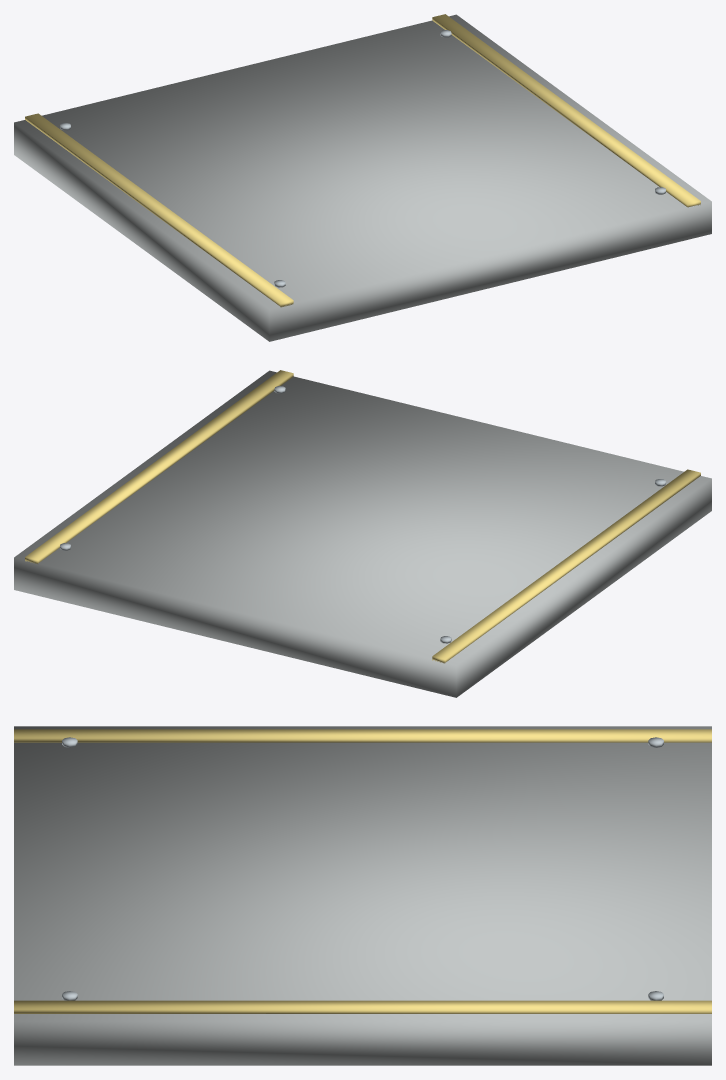
File: foundation_enhanced.glb
3 renders of one model, top to bottom at view 1: azimuth 30°, elevation 25°; view 2: azimuth 150°, elevation 25°; view 3: azimuth 270°, elevation 25°, orthographic. The views are drawn at different scales.
Parts seen in each view (by area): view 1: Base_concrete, Markings_yellow; view 2: Base_concrete, Markings_yellow; view 3: Base_concrete, Markings_yellow, AnchorBolt_steel.
Boxes of the visible parts, x1,y1,x2,y2 form: Base_concrete: [14, 14, 711, 341]; Markings_yellow: [25, 14, 700, 307]; Base_concrete: [14, 370, 711, 697]; Markings_yellow: [25, 370, 700, 663]; Base_concrete: [14, 726, 711, 1065]; Markings_yellow: [14, 729, 711, 1013]; AnchorBolt_steel: [62, 737, 663, 1000].
Size of the model in its own units: 4 by 0.3205 by 4.
